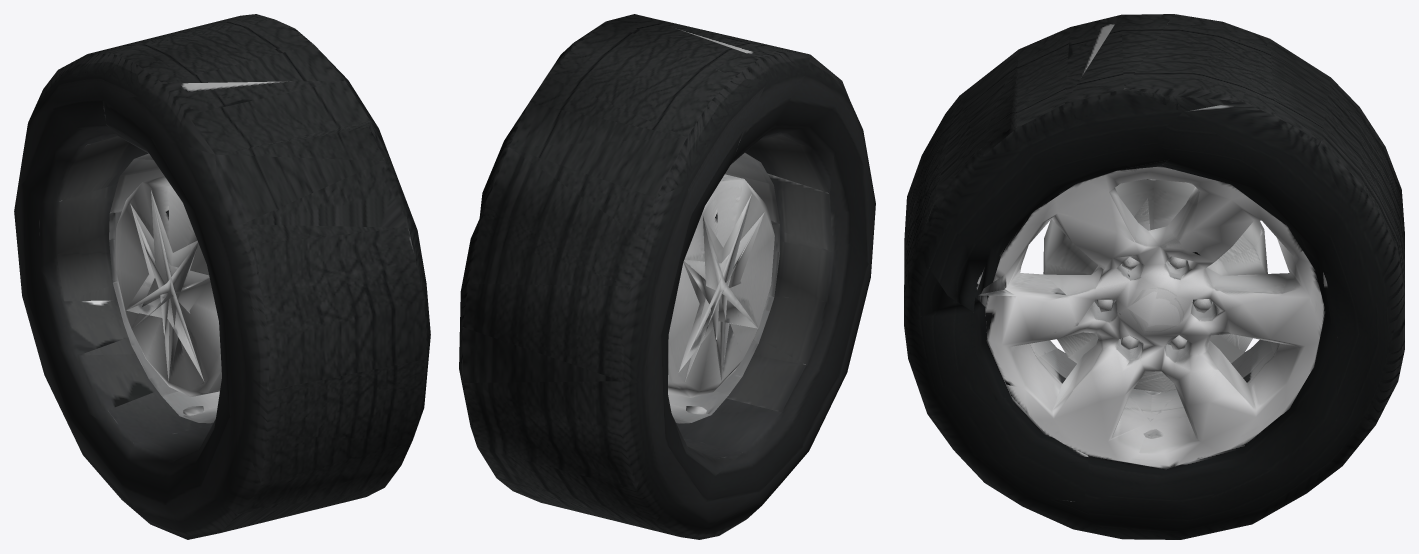
File: wheel_1.obj
3 views of the same model, side by side, from view 1: azimuth 30°, elevation 25°; view 2: azimuth 150°, elevation 25°; view 3: azimuth 270°, elevation 25° (orthographic).
Visible parts, largest first — view 1: wheel; view 2: wheel; view 3: wheel.
Boxes of the visible parts, box(x1,y1,x2,y2) form: wheel: box(14, 14, 430, 539); wheel: box(459, 14, 875, 539); wheel: box(904, 14, 1404, 539).
Bounding box in the file's own units: 0.315 × 0.6942 × 0.6966.
